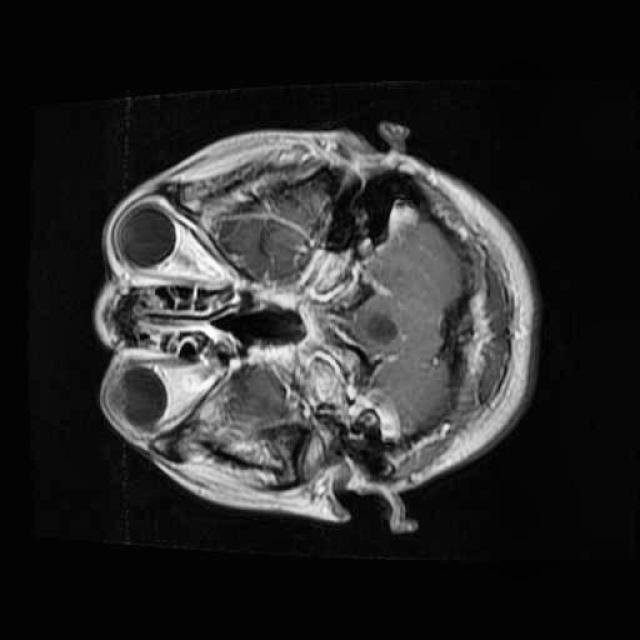Non-Tumor: (346, 294, 422, 365)
